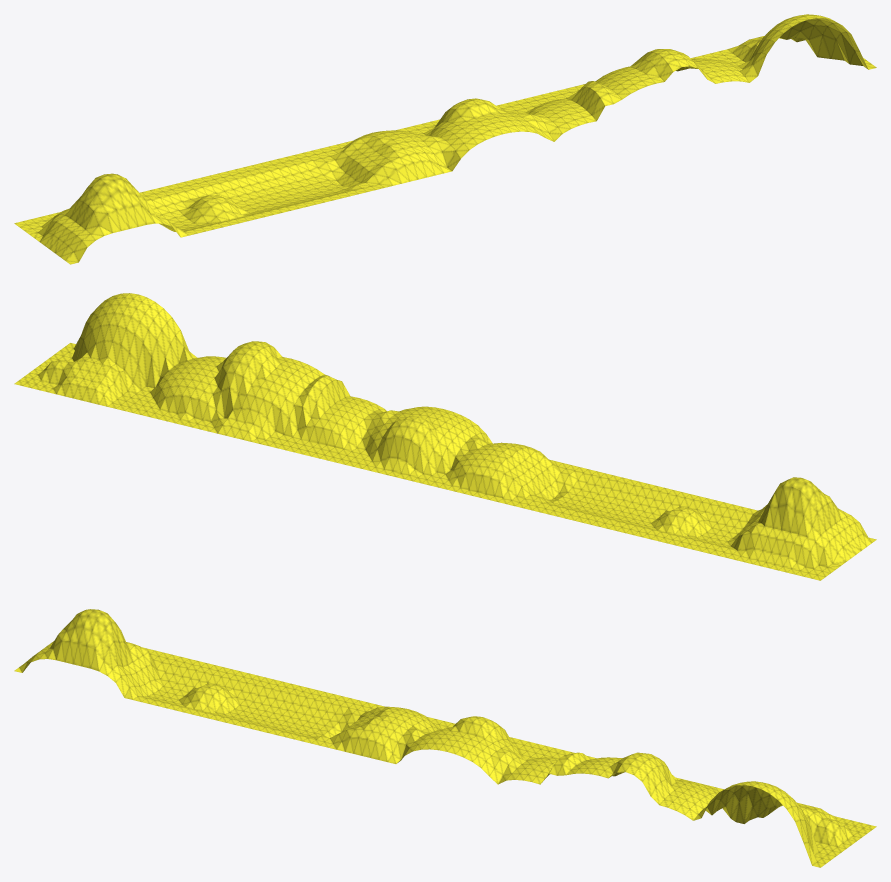
Rendered from Terrain1.fbx.
The picture shows the model from 3 angles, top to bottom: view 1: azimuth 30°, elevation 25°; view 2: azimuth 150°, elevation 25°; view 3: azimuth 330°, elevation 25°; orthographic projection.
Parts seen in each view (by area): view 1: Grid; view 2: Grid; view 3: Grid.
Part boxes in pixels (x1=…): Grid: x1=14, y1=14, x2=876, y2=264; Grid: x1=14, y1=293, x2=876, y2=580; Grid: x1=14, y1=609, x2=876, y2=867.
Size of the model in its own units: 1652 by 152 by 200.
1 material, 1 textured.
